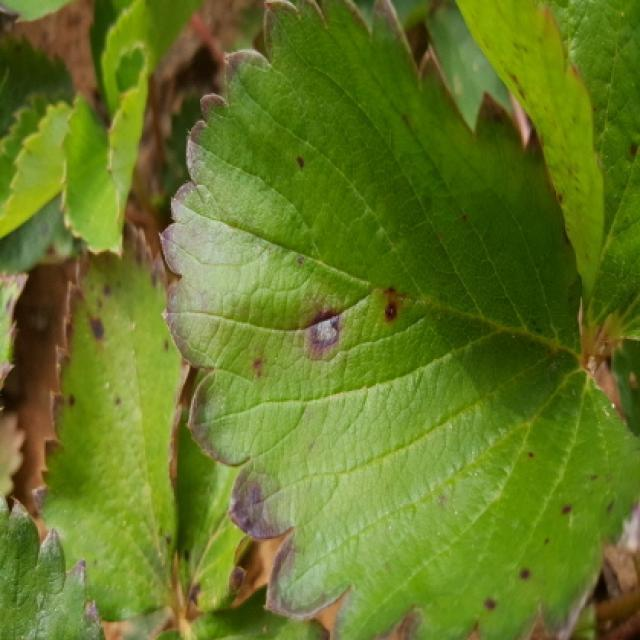Leaf Spot: (157, 0, 638, 638), (30, 209, 200, 624), (457, 0, 638, 337), (0, 490, 107, 638), (172, 424, 256, 612)
